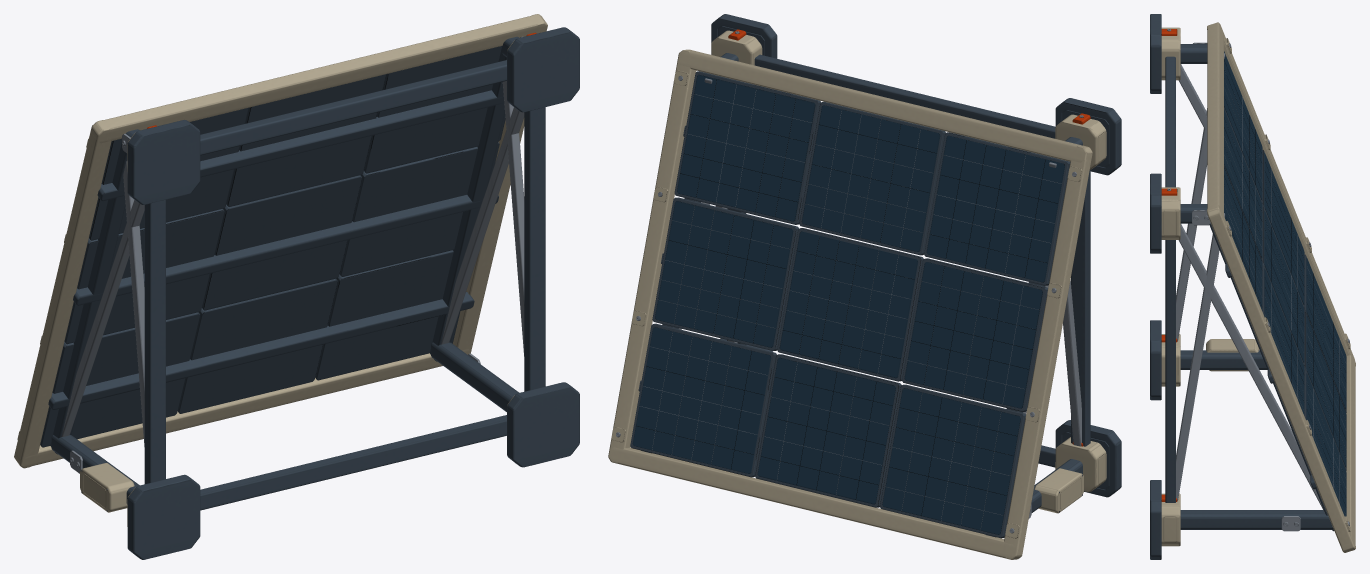
The model's file is SolarGenerator.fbx.
3 renders of one model, left to right at view 1: azimuth 30°, elevation 25°; view 2: azimuth 150°, elevation 25°; view 3: azimuth 270°, elevation 25°, orthographic. The views are drawn at different scales.
Parts seen in each view (by area): view 1: panel_module_back.003, panel_module_back.004, panel_end_frame.001, panel_module_back.007, panel_module_back.006, panel_module_back.005, panel_side_frame, panel_module_back, panel_module_back.008, cross_base_tie.001, cross_base_tie, panel_module_back.001 (+21 smaller); view 2: solar_cell_sheet, solar_cell_sheet.004, solar_cell_sheet.005, solar_cell_sheet.006, solar_cell_sheet.001, solar_cell_sheet.003, solar_cell_sheet.007, solar_cell_sheet.002, solar_cell_sheet.008, panel_end_frame.001, panel_end_frame, panel_side_frame (+20 smaller); view 3: panel_side_frame.001, panel_end_frame.001, side_base_tie.001, diagonal_brace.003, fixed_support_post.002, diagonal_brace.002, solar_cell_sheet.004, solar_cell_sheet.003, solar_cell_sheet, solar_cell_sheet.001, panel_side_frame, solar_cell_sheet.005 (+26 smaller).
Boxes of the visible parts, left/top/right/bottom form: panel_module_back.003: left=177, top=278, right=337, bottom=413; panel_module_back.004: left=202, top=175, right=361, bottom=310; panel_end_frame.001: left=90, top=14, right=547, bottom=143; panel_module_back.007: left=339, top=142, right=499, bottom=276; panel_module_back.006: left=315, top=250, right=460, bottom=380; panel_module_back.005: left=226, top=74, right=386, bottom=206; panel_side_frame: left=14, top=120, right=112, bottom=468; panel_module_back: left=40, top=312, right=199, bottom=447; panel_module_back.008: left=364, top=46, right=505, bottom=173; cross_base_tie.001: left=200, top=60, right=506, bottom=155; cross_base_tie: left=200, top=415, right=506, bottom=510; panel_module_back.001: left=64, top=209, right=224, bottom=344; solar_cell_sheet: left=882, top=388, right=1020, bottom=534; solar_cell_sheet.004: left=779, top=231, right=918, bottom=378; solar_cell_sheet.005: left=801, top=105, right=940, bottom=251; solar_cell_sheet.006: left=632, top=327, right=771, bottom=473; solar_cell_sheet.001: left=904, top=262, right=1042, bottom=408; solar_cell_sheet.003: left=757, top=357, right=895, bottom=504; solar_cell_sheet.007: left=655, top=201, right=793, bottom=347; solar_cell_sheet.002: left=926, top=135, right=1064, bottom=282; solar_cell_sheet.008: left=677, top=74, right=815, bottom=221; panel_end_frame.001: left=677, top=49, right=1092, bottom=162; panel_end_frame: left=608, top=447, right=1022, bottom=559; panel_side_frame: left=1003, top=146, right=1091, bottom=559; panel_side_frame.001: left=1207, top=205, right=1355, bottom=550; panel_end_frame.001: left=1207, top=22, right=1223, bottom=222; side_base_tie.001: left=1165, top=240, right=1175, bottom=502; diagonal_brace.003: left=1178, top=224, right=1324, bottom=512; fixed_support_post.002: left=1180, top=510, right=1333, bottom=529; diagonal_brace.002: left=1176, top=213, right=1225, bottom=500; solar_cell_sheet.004: left=1264, top=211, right=1304, bottom=362; solar_cell_sheet.003: left=1306, top=315, right=1346, bottom=466; solar_cell_sheet: left=1306, top=257, right=1346, bottom=409; solar_cell_sheet.001: left=1264, top=153, right=1304, bottom=304; panel_side_frame: left=1207, top=22, right=1355, bottom=365; solar_cell_sheet.005: left=1224, top=109, right=1262, bottom=257.
Size of the model in its own units: 380 by 342 by 174.
